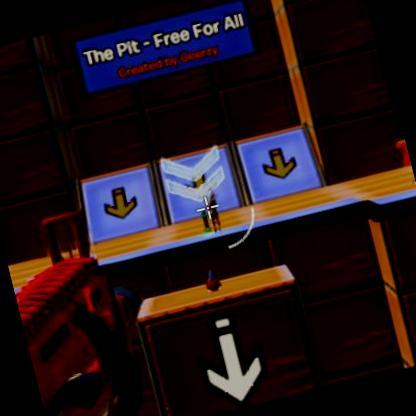person: (204, 190, 232, 236)
